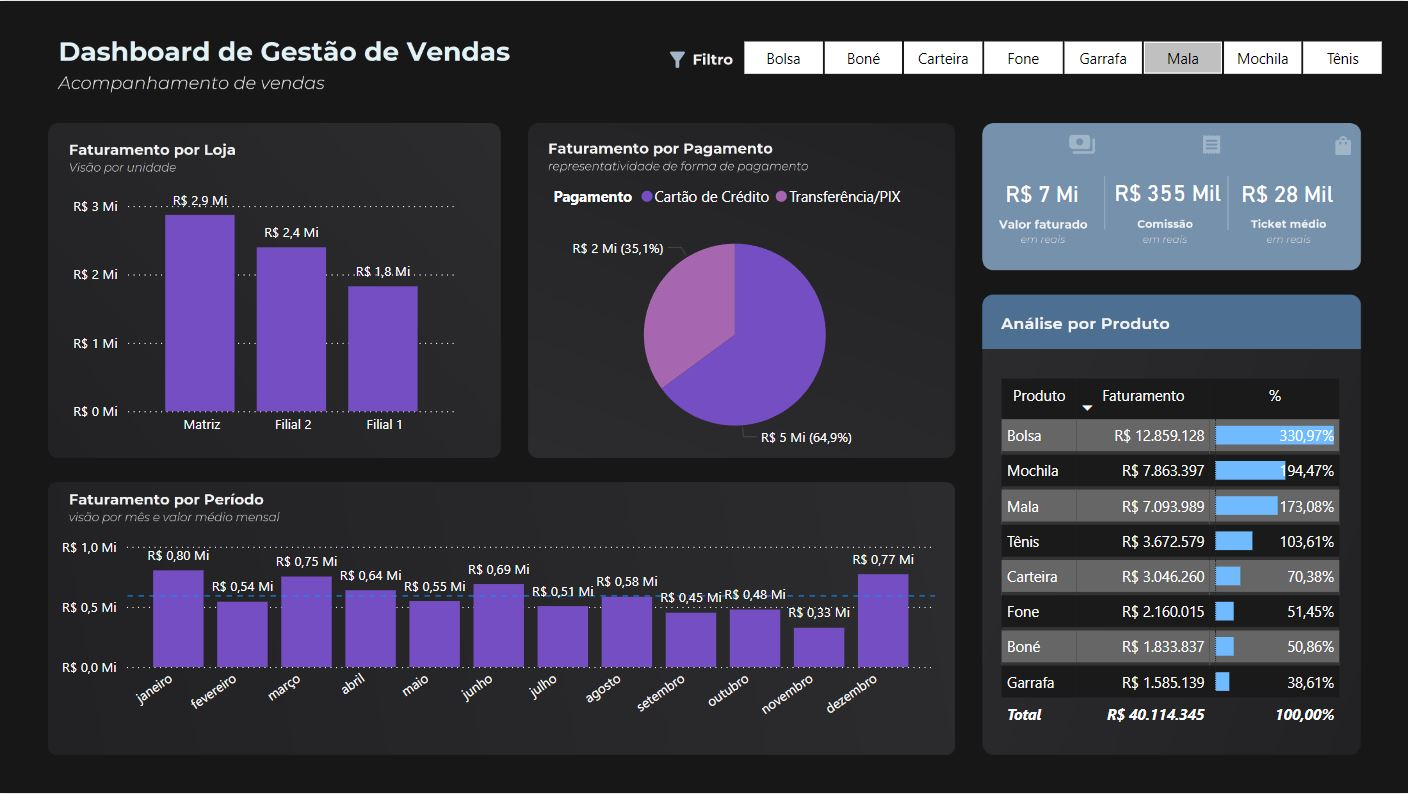

What the dashboard file says about the page in this screenshot:
{"tool":"powerbi","page":{"name":"Página 1","canvas":[1280,720],"ordinal":0},"visuals":[{"type":"card","fields":{"Values":["Sum(Vendas.Valor Venda)"]},"box":[888.3,132.5,118.3,85],"z":0},{"type":"card","fields":{"Values":["Avg(Vendas.Valor Venda)"]},"box":[1112.5,132.5,115,85],"z":1000},{"type":"clusteredColumnChart","title":"Faturamento por Período","fields":{"Category":["Vendas.Data Pedido.Variation.Hierarquia de datas.Mês"],"Y":["Sum(Vendas.Valor Venda)"]},"box":[51.3,480.3,803.9,189.5],"z":2000},{"type":"pieChart","title":"Faturamento por Pagamento","fields":{"Category":["Vendas.Pagamento"],"Y":["Sum(Vendas.Valor Venda)"]},"box":[501.3,157.9,339.5,263.2],"z":3000},{"type":"clusteredColumnChart","title":"Faturamento por Loja","fields":{"Y":["Sum(Vendas.Valor Venda)"],"Category":["Lojas.nome_loja"]},"box":[60.5,157.9,360.5,244.7],"z":4000},{"type":"tableEx","fields":{"Values":["Vendas.Produto","Sum(Vendas.Valor Venda)","Count(Vendas.Valor Venda)"]},"box":[904.9,338.3,333.3,346.9],"z":5000},{"type":"slicer","fields":{"Values":["Vendas.Produto"]},"box":[651.3,30.3,628.9,43.4],"z":6000},{"type":"card","fields":{"Values":["Vendas.comissao"]},"box":[1000,136.7,123.3,75.8],"z":7000}]}

Visuals, with their boxes in screenshot pixels (x1, y1, x2, y2), scaled from the page's 1280x720 canvas onto the 1408x794 screenshot:
card - Sum(Vendas.Valor Venda): (977, 146, 1107, 240)
card - Avg(Vendas.Valor Venda): (1224, 146, 1350, 240)
"Faturamento por Período" clusteredColumnChart: (56, 530, 941, 739)
"Faturamento por Pagamento" pieChart: (551, 174, 925, 464)
"Faturamento por Loja" clusteredColumnChart: (67, 174, 463, 444)
tableEx - Vendas.Produto x Sum(Vendas.Valor Venda): (995, 373, 1362, 756)
slicer - Vendas.Produto: (716, 33, 1407, 81)
card - Vendas.comissao: (1100, 151, 1236, 234)
